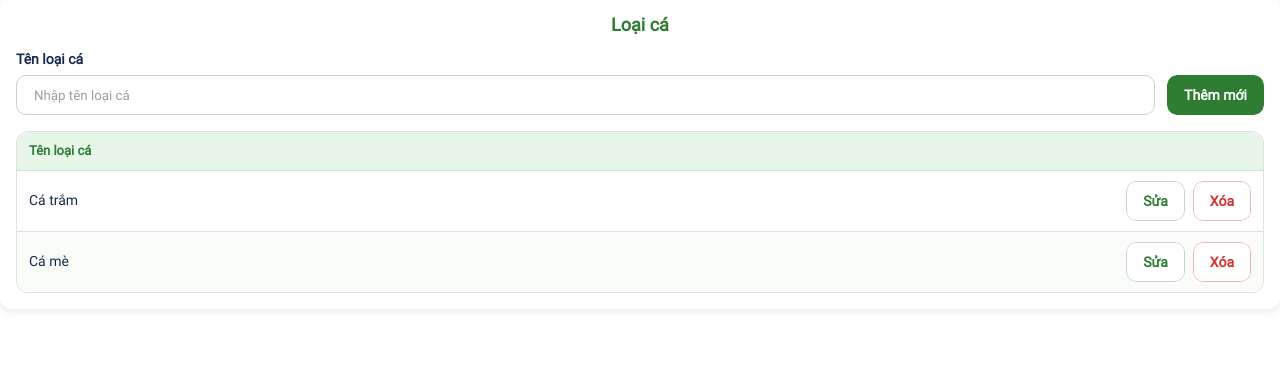
Scenario: thêm loại cá: gửi tên đã trim và tải lại danh sách
The image size is (1280, 377).
Type "  Cá chép " into the field with id "fishType-new-fishName".
click(586, 95); type("  Cá chép ")  # box [18,77,1154,113]
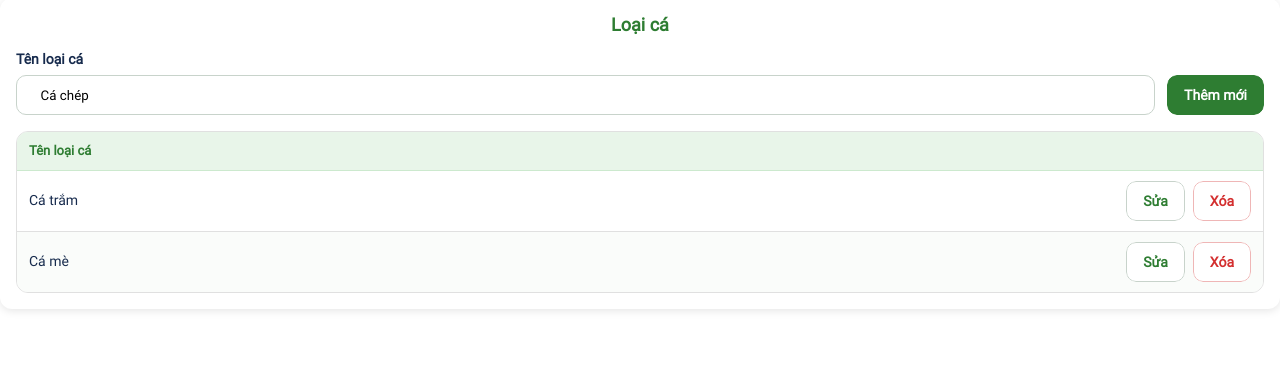
Click the button "Thêm mới".
click(1216, 95)  # box [1167,75,1264,115]
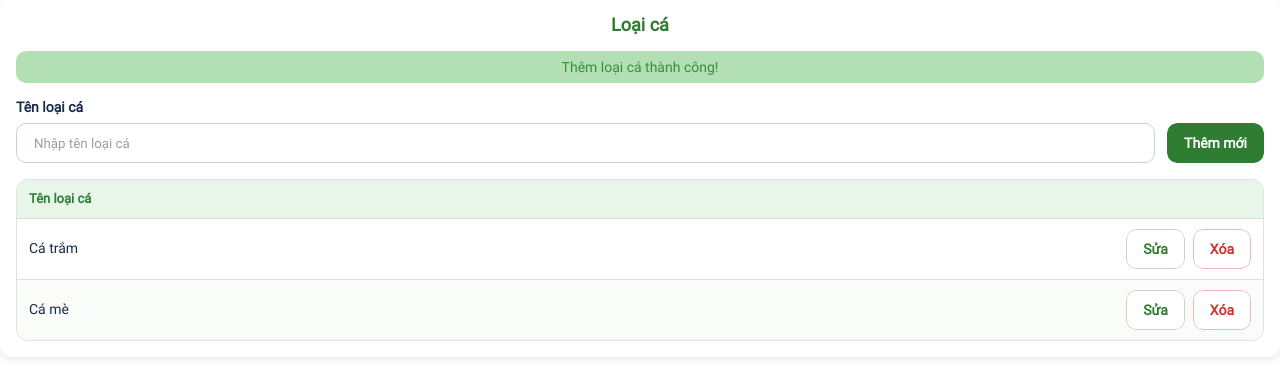
Result: the field with id "fishType-new-fishName" is empty at [18,125,1154,161]
Result: the text "Thêm loại cá thành công!" is shown at [16,51,1264,83]
